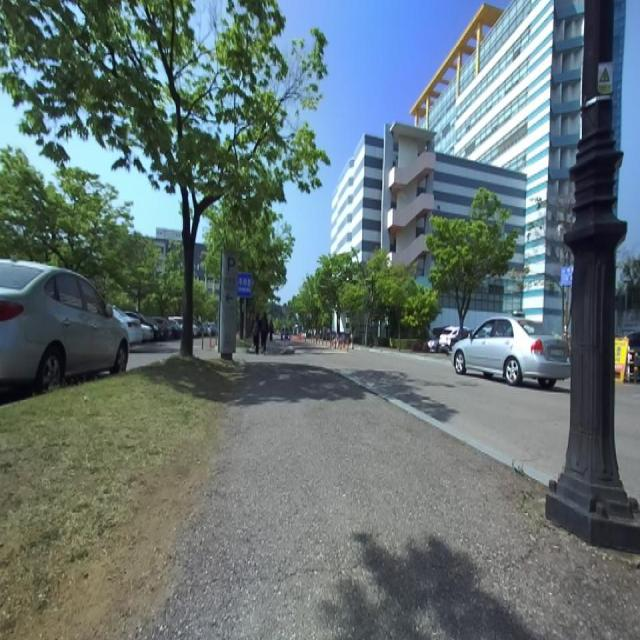sidewalk: (143, 359, 640, 639)
